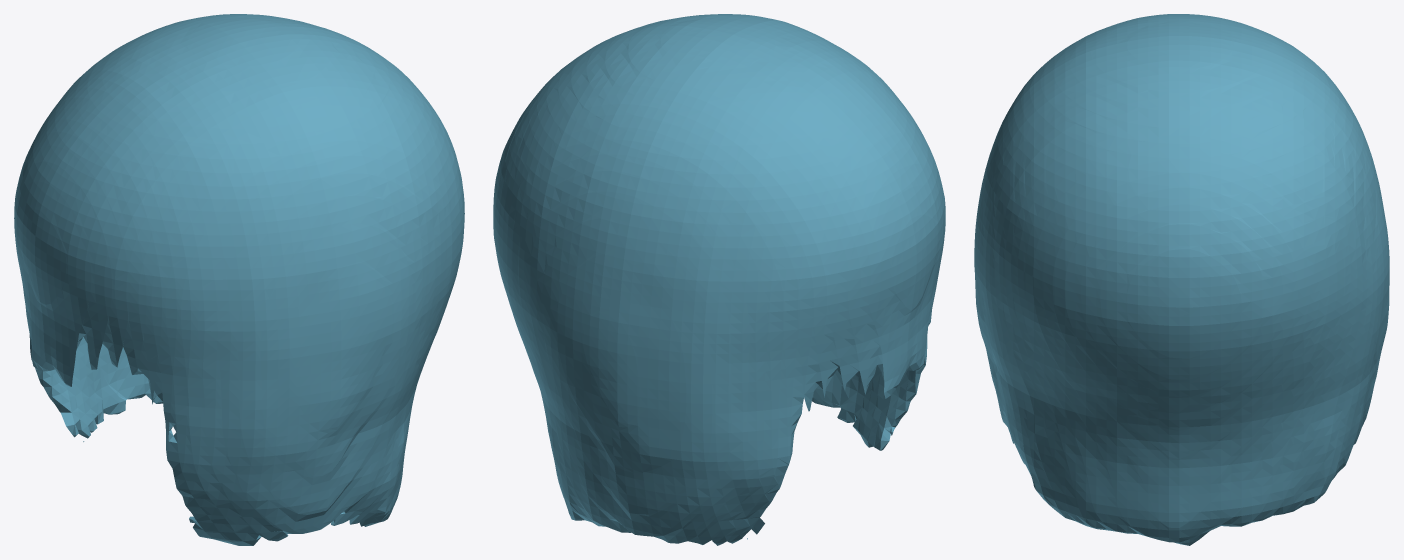
The model's file is 000-hair.glb.
3 renders of one model, left to right at view 1: azimuth 30°, elevation 25°; view 2: azimuth 150°, elevation 25°; view 3: azimuth 270°, elevation 25°, orthographic. The views are drawn at different scales.
Visible parts, largest first — view 1: room_mesh; view 2: room_mesh; view 3: room_mesh.
Part boxes in pixels (x1,y1,x2,y2): room_mesh: [14, 14, 464, 545]; room_mesh: [493, 14, 945, 545]; room_mesh: [974, 14, 1389, 545].
Size of the model in its own units: 0.267 by 0.302 by 0.251.
